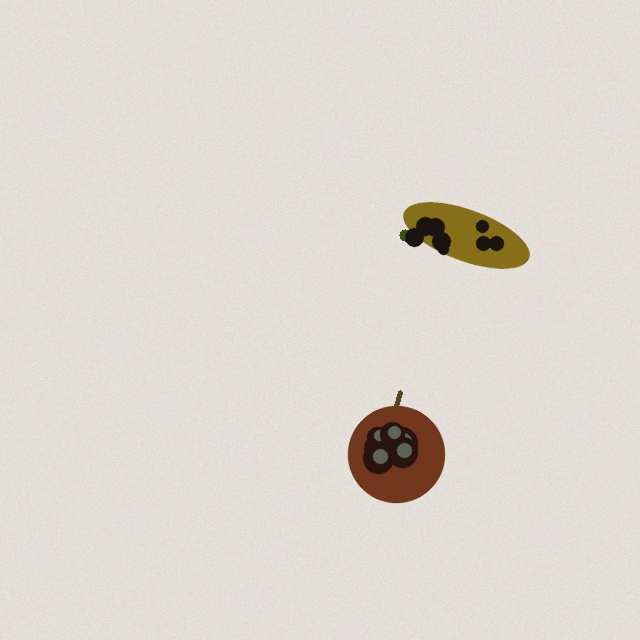Rotten apple: (348, 392, 444, 502)
Rotten banana: (397, 204, 535, 266)
